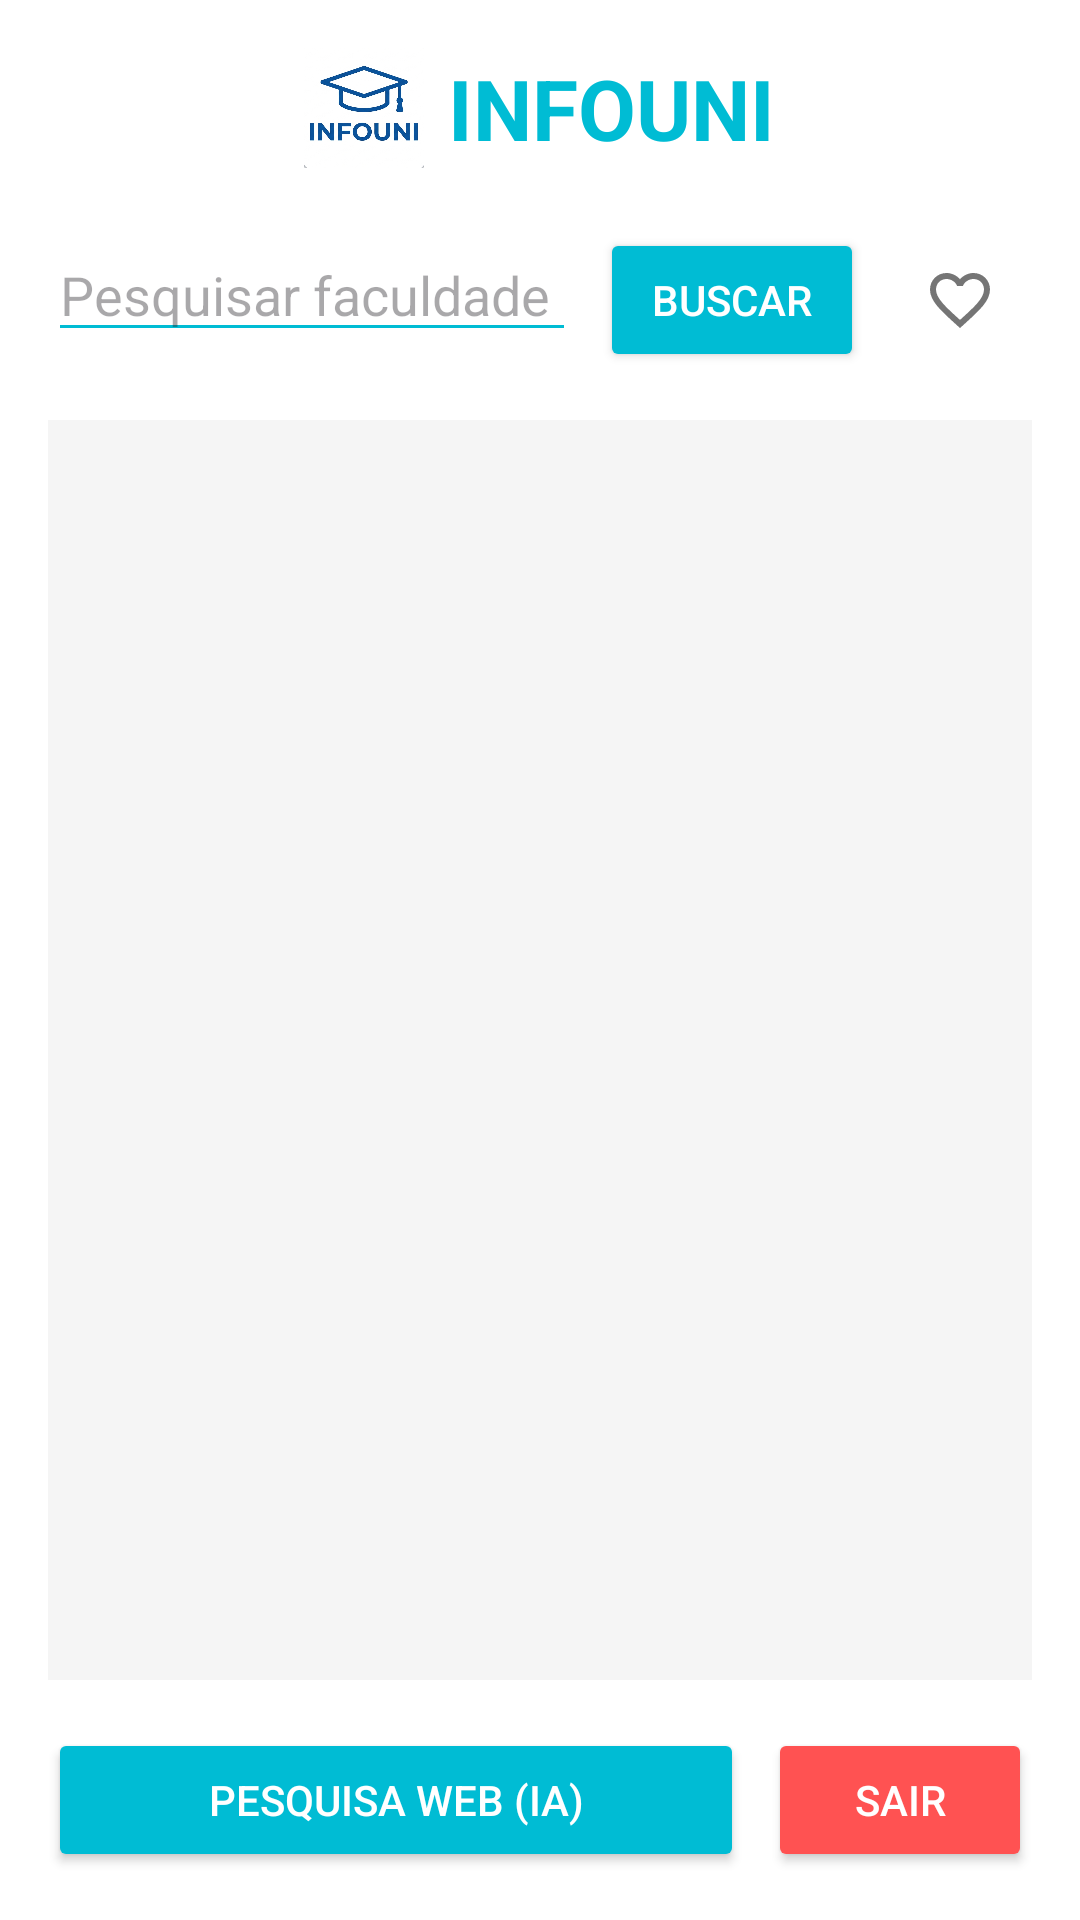

Icon bounding boxes for this 1080*1920 phone screenshot, format {"x1": x1, "y1": y1, "x2": x2, "y2": y2}:
Ver Favoritos: {"x1": 930, "y1": 273, "x2": 990, "y2": 328}
